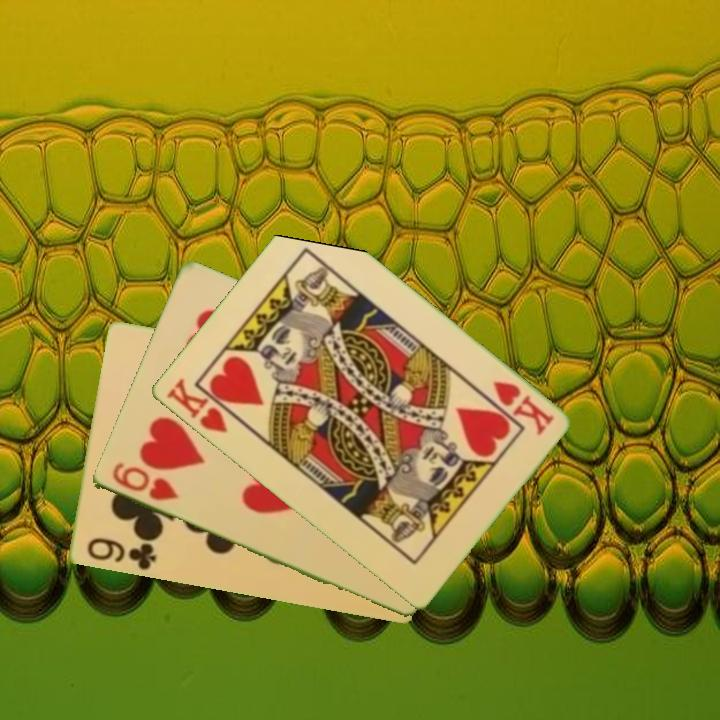6h: (108, 459, 181, 504)
9c: (83, 534, 159, 573)
Kh: (162, 374, 243, 436), (488, 377, 557, 439)
